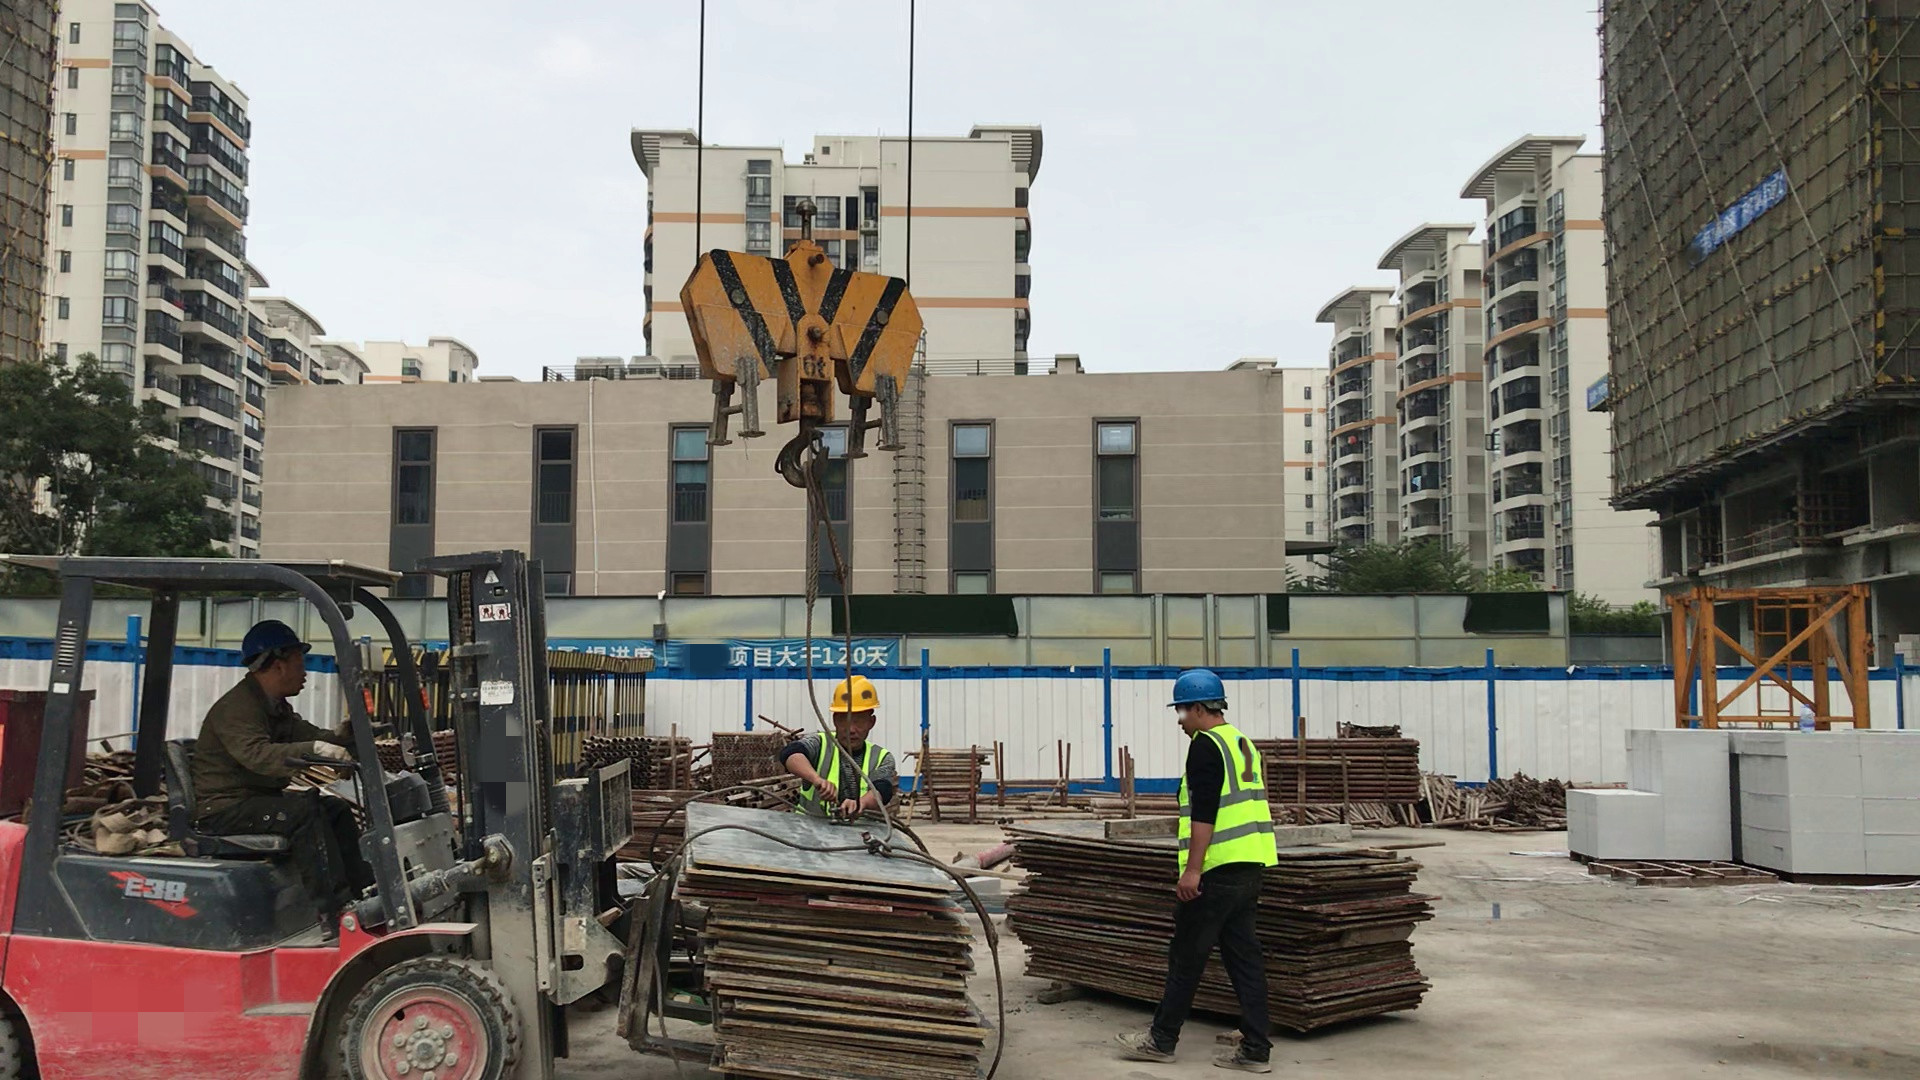board: (665, 796, 996, 1078), (1011, 820, 1448, 1030)
brick: (1733, 730, 1920, 882), (1572, 715, 1735, 868)
helmet: (236, 620, 317, 663), (1158, 671, 1236, 712), (823, 673, 883, 714)
hook: (653, 211, 933, 487)
person: (1119, 663, 1300, 1074), (177, 617, 381, 879), (781, 663, 919, 831)
scaffold: (1281, 713, 1433, 811), (594, 724, 685, 781)
slogan: (1701, 170, 1802, 261), (644, 635, 892, 671)
vest: (1175, 733, 1276, 865), (800, 737, 888, 813)
